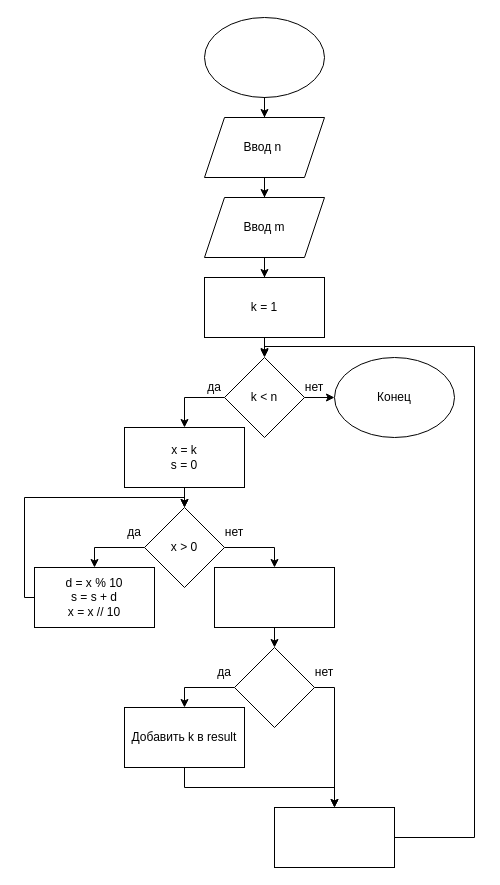
Some shapes in this 500 by 885 pixel diagram are drawn without their labels. The shapes that lost their labels are listed below. From the top down, each one's centre as x and y in pixels, then its label:
the point at 264,57: Начало
the point at 274,597: sq = s * s
the point at 274,687: sq == m
the point at 334,837: k = k +1
